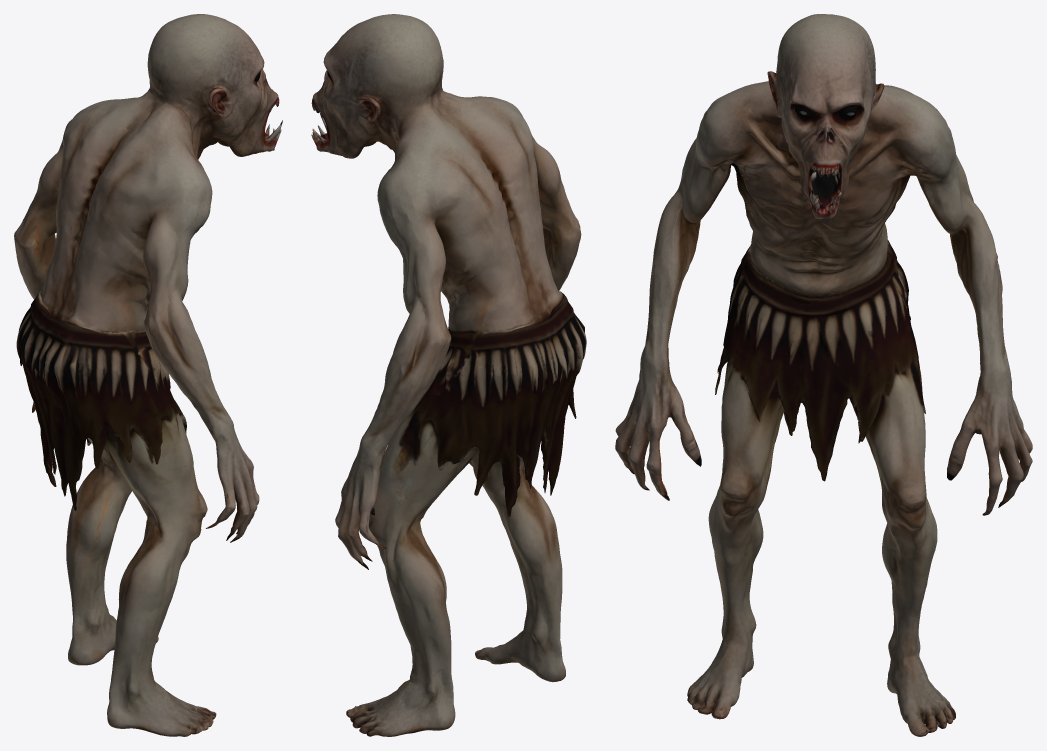
File: SustoPersonaje.fbx
3 views of the same model, side by side, from view 1: azimuth 30°, elevation 25°; view 2: azimuth 150°, elevation 25°; view 3: azimuth 270°, elevation 25° (orthographic). The views are drawn at different scales.
Parts seen in each view (by area): view 1: tripo_node_e88dbe4b; view 2: tripo_node_e88dbe4b; view 3: tripo_node_e88dbe4b.
Boxes of the visible parts, x1,y1,x2,y2 form: tripo_node_e88dbe4b: (14, 14, 282, 736); tripo_node_e88dbe4b: (311, 14, 586, 736); tripo_node_e88dbe4b: (615, 14, 1032, 736).
Size of the model in its own units: 0.3973 by 1 by 0.528.
Materials: 1 (1 with a texture image).
